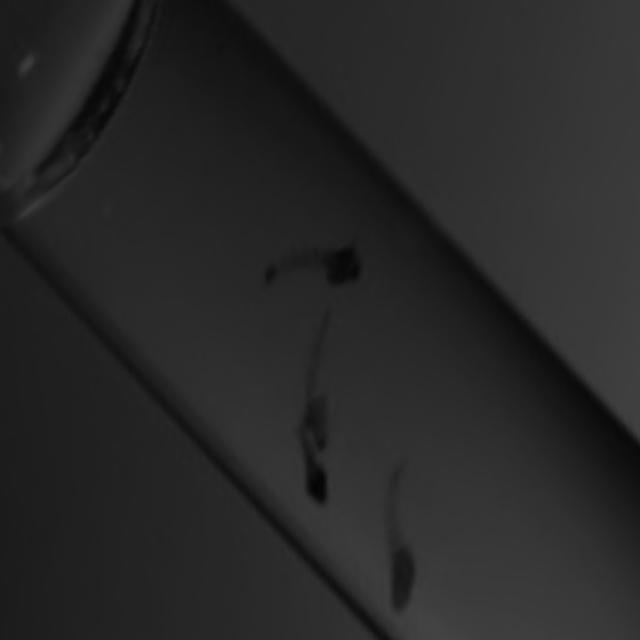larvas: (382, 470, 415, 599), (268, 242, 356, 280), (310, 314, 330, 441), (295, 414, 325, 496)
